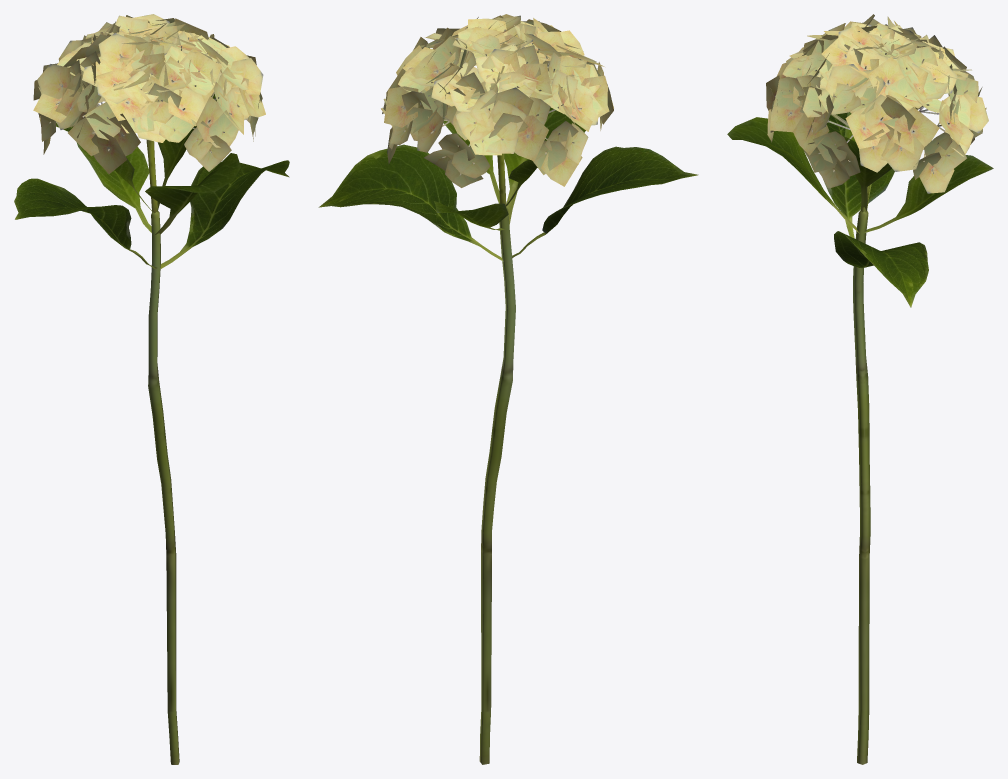
File: Hydrangea OG LONG YELLOW PINK.glb
The picture shows the model from 3 angles, left to right: view 1: azimuth 30°, elevation 25°; view 2: azimuth 150°, elevation 25°; view 3: azimuth 270°, elevation 25°; orthographic projection. The views are drawn at different scales.
Visible parts, largest first — view 1: Hydrangea; view 2: Hydrangea; view 3: Hydrangea.
Part boxes in pixels (<box>): Hydrangea: <box>14,14,289,764</box>; Hydrangea: <box>318,14,698,764</box>; Hydrangea: <box>727,14,993,764</box>.
Bounding box in the file's own units: 1.38 × 2.99 × 1.
Materials: 1 (1 with a texture image).
